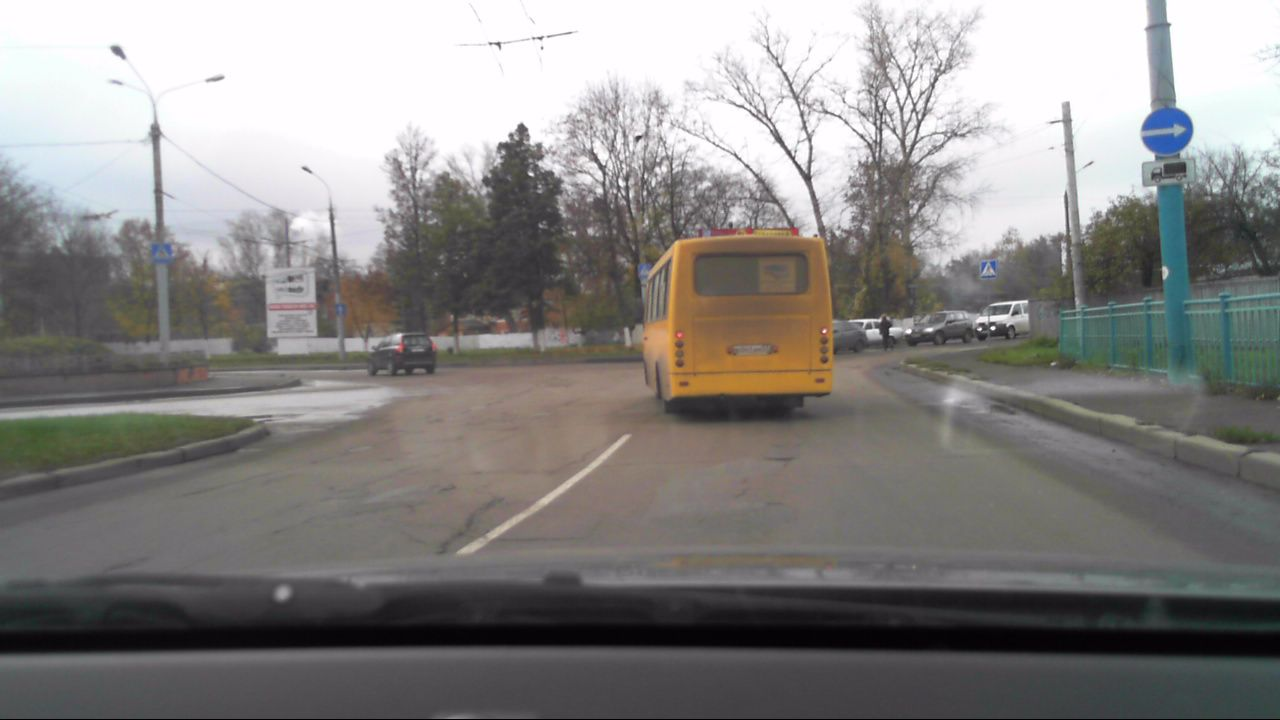Turn Right: (1141, 108, 1194, 155)
